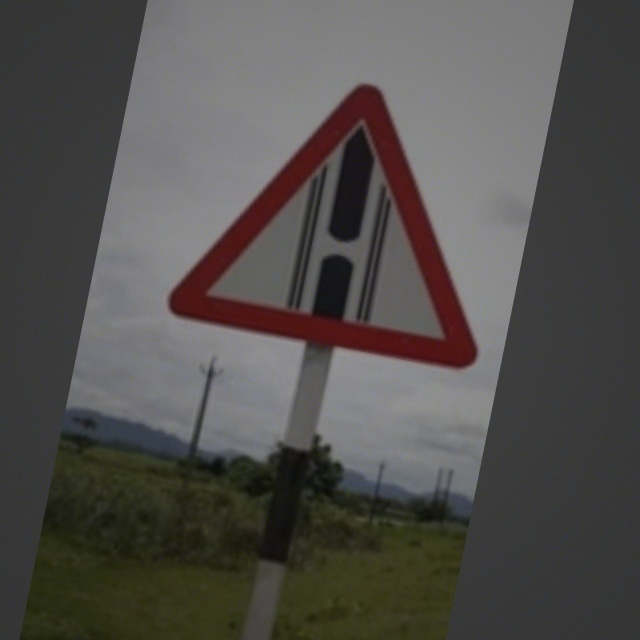Gap_in_Median: (167, 37, 526, 374)
